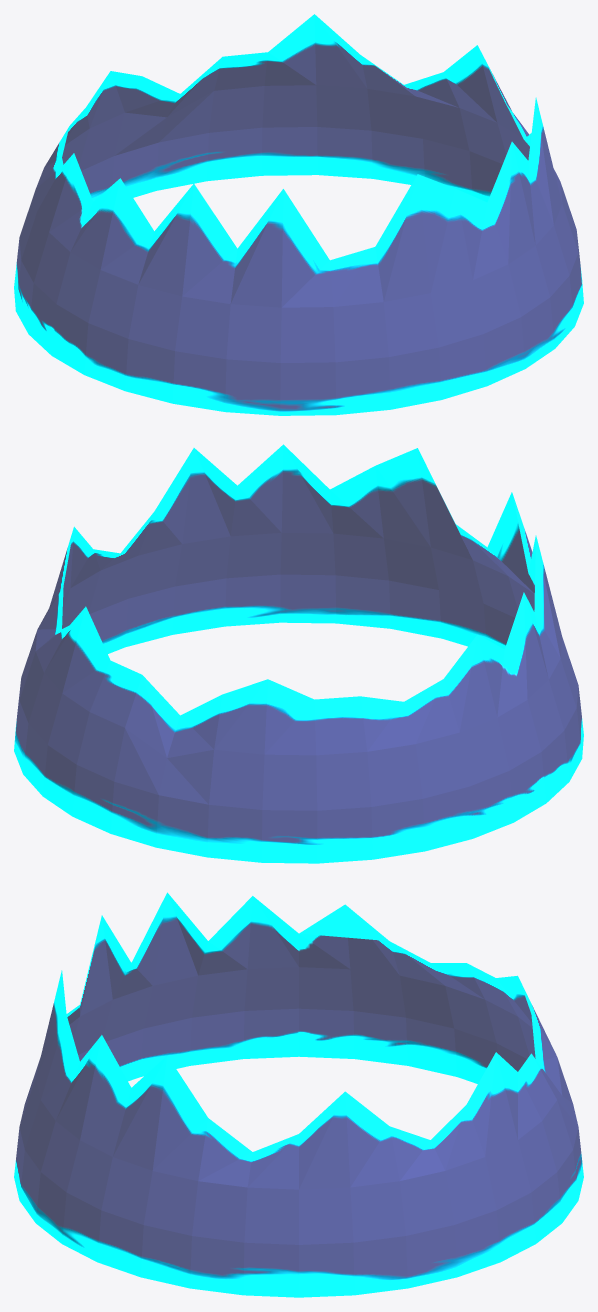
Rendered from Shield.gltf.
3 renders of one model, top to bottom at view 1: azimuth 30°, elevation 25°; view 2: azimuth 150°, elevation 25°; view 3: azimuth 270°, elevation 25°, orthographic.
Parts seen in each view (by area): view 1: Sphere; view 2: Sphere; view 3: Sphere.
Part boxes in pixels (x1,y1,x2,y2): Sphere: [14, 14, 583, 415]; Sphere: [14, 444, 583, 863]; Sphere: [14, 892, 583, 1297].
Size of the model in its own units: 8.35 by 3.36 by 8.35.
1 material, 1 textured.
